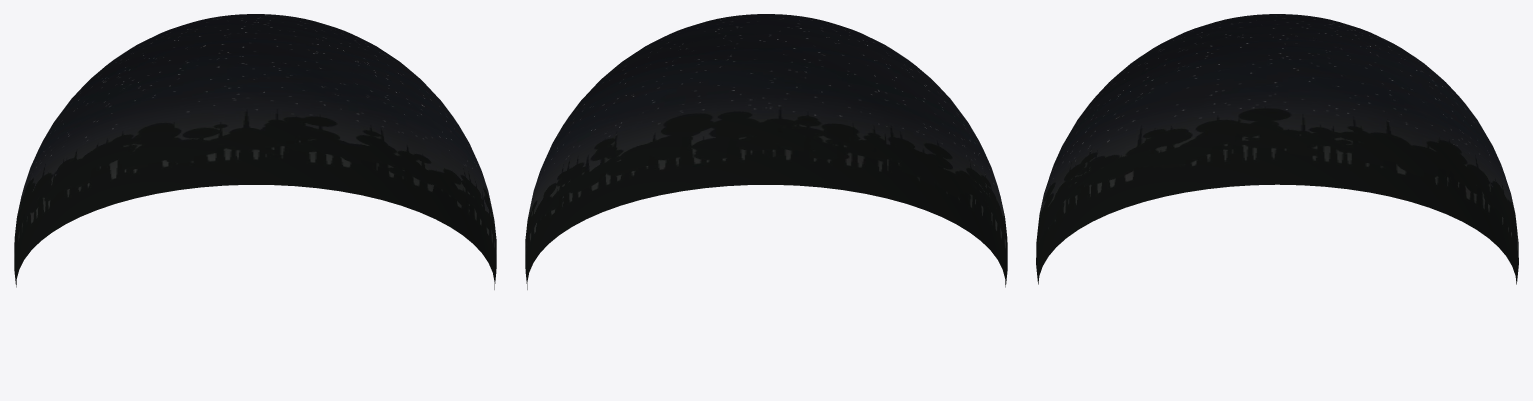
File: mw_sky.glb
The picture shows the model from 3 angles, left to right: view 1: azimuth 30°, elevation 25°; view 2: azimuth 150°, elevation 25°; view 3: azimuth 270°, elevation 25°; orthographic projection.
Visible parts, largest first — view 1: sky; view 2: sky; view 3: sky.
Part boxes in pixels (<box>): sky: <box>14,14,496,289</box>; sky: <box>525,14,1007,289</box>; sky: <box>1036,14,1518,284</box>.
Size of the model in its own units: 300 by 171 by 300.
Materials: 1 (1 with a texture image).
